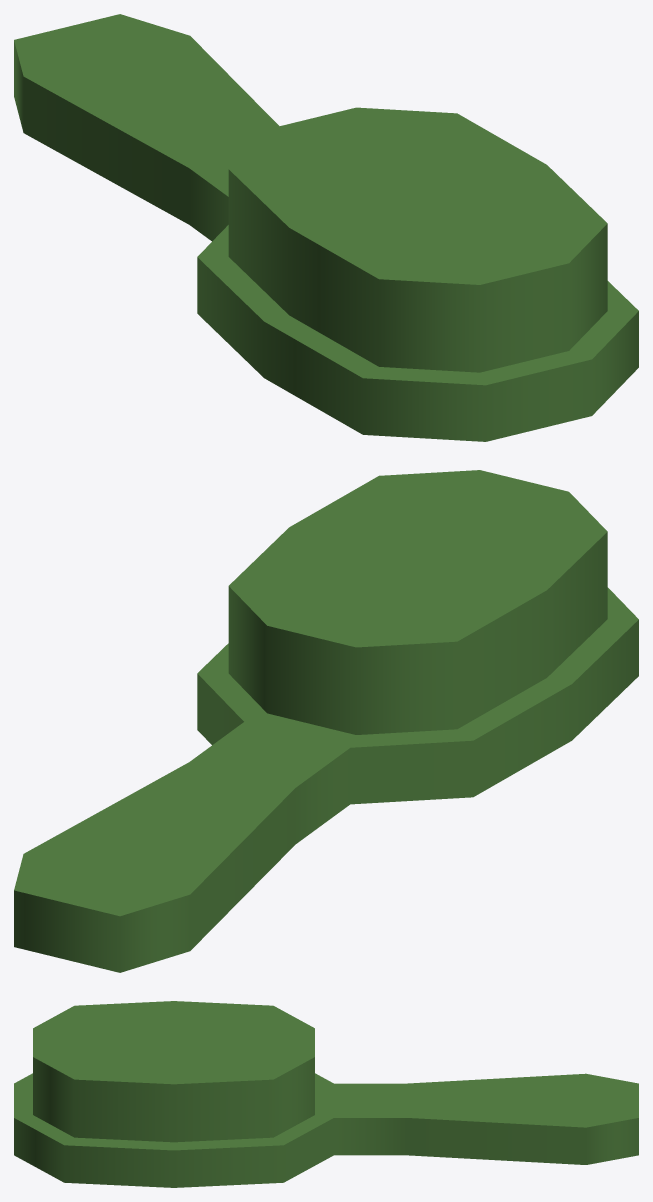
Rendered from Spazzola Piccola.fbx.
3 views of the same model, one above another, from view 1: azimuth 30°, elevation 25°; view 2: azimuth 150°, elevation 25°; view 3: azimuth 270°, elevation 25° (orthographic). The views are drawn at different scales.
Visible parts, largest first — view 1: SpazzolaPiccola_low; view 2: SpazzolaPiccola_low; view 3: SpazzolaPiccola_low.
Part boxes in pixels (x1,y1,x2,y2): SpazzolaPiccola_low: [14, 14, 638, 441]; SpazzolaPiccola_low: [14, 470, 638, 972]; SpazzolaPiccola_low: [14, 1001, 638, 1187].
Size of the model in its own units: 36.99 by 16.56 by 98.15.
